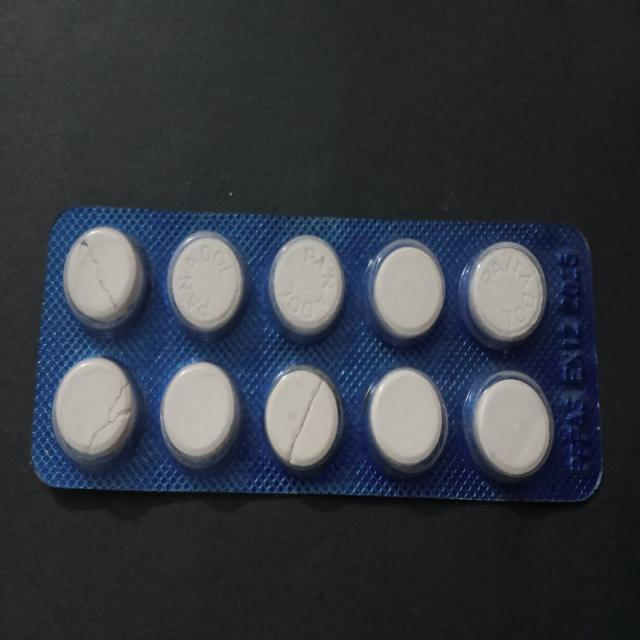defect: (49, 350, 145, 475), (58, 217, 150, 338), (259, 359, 346, 477)
